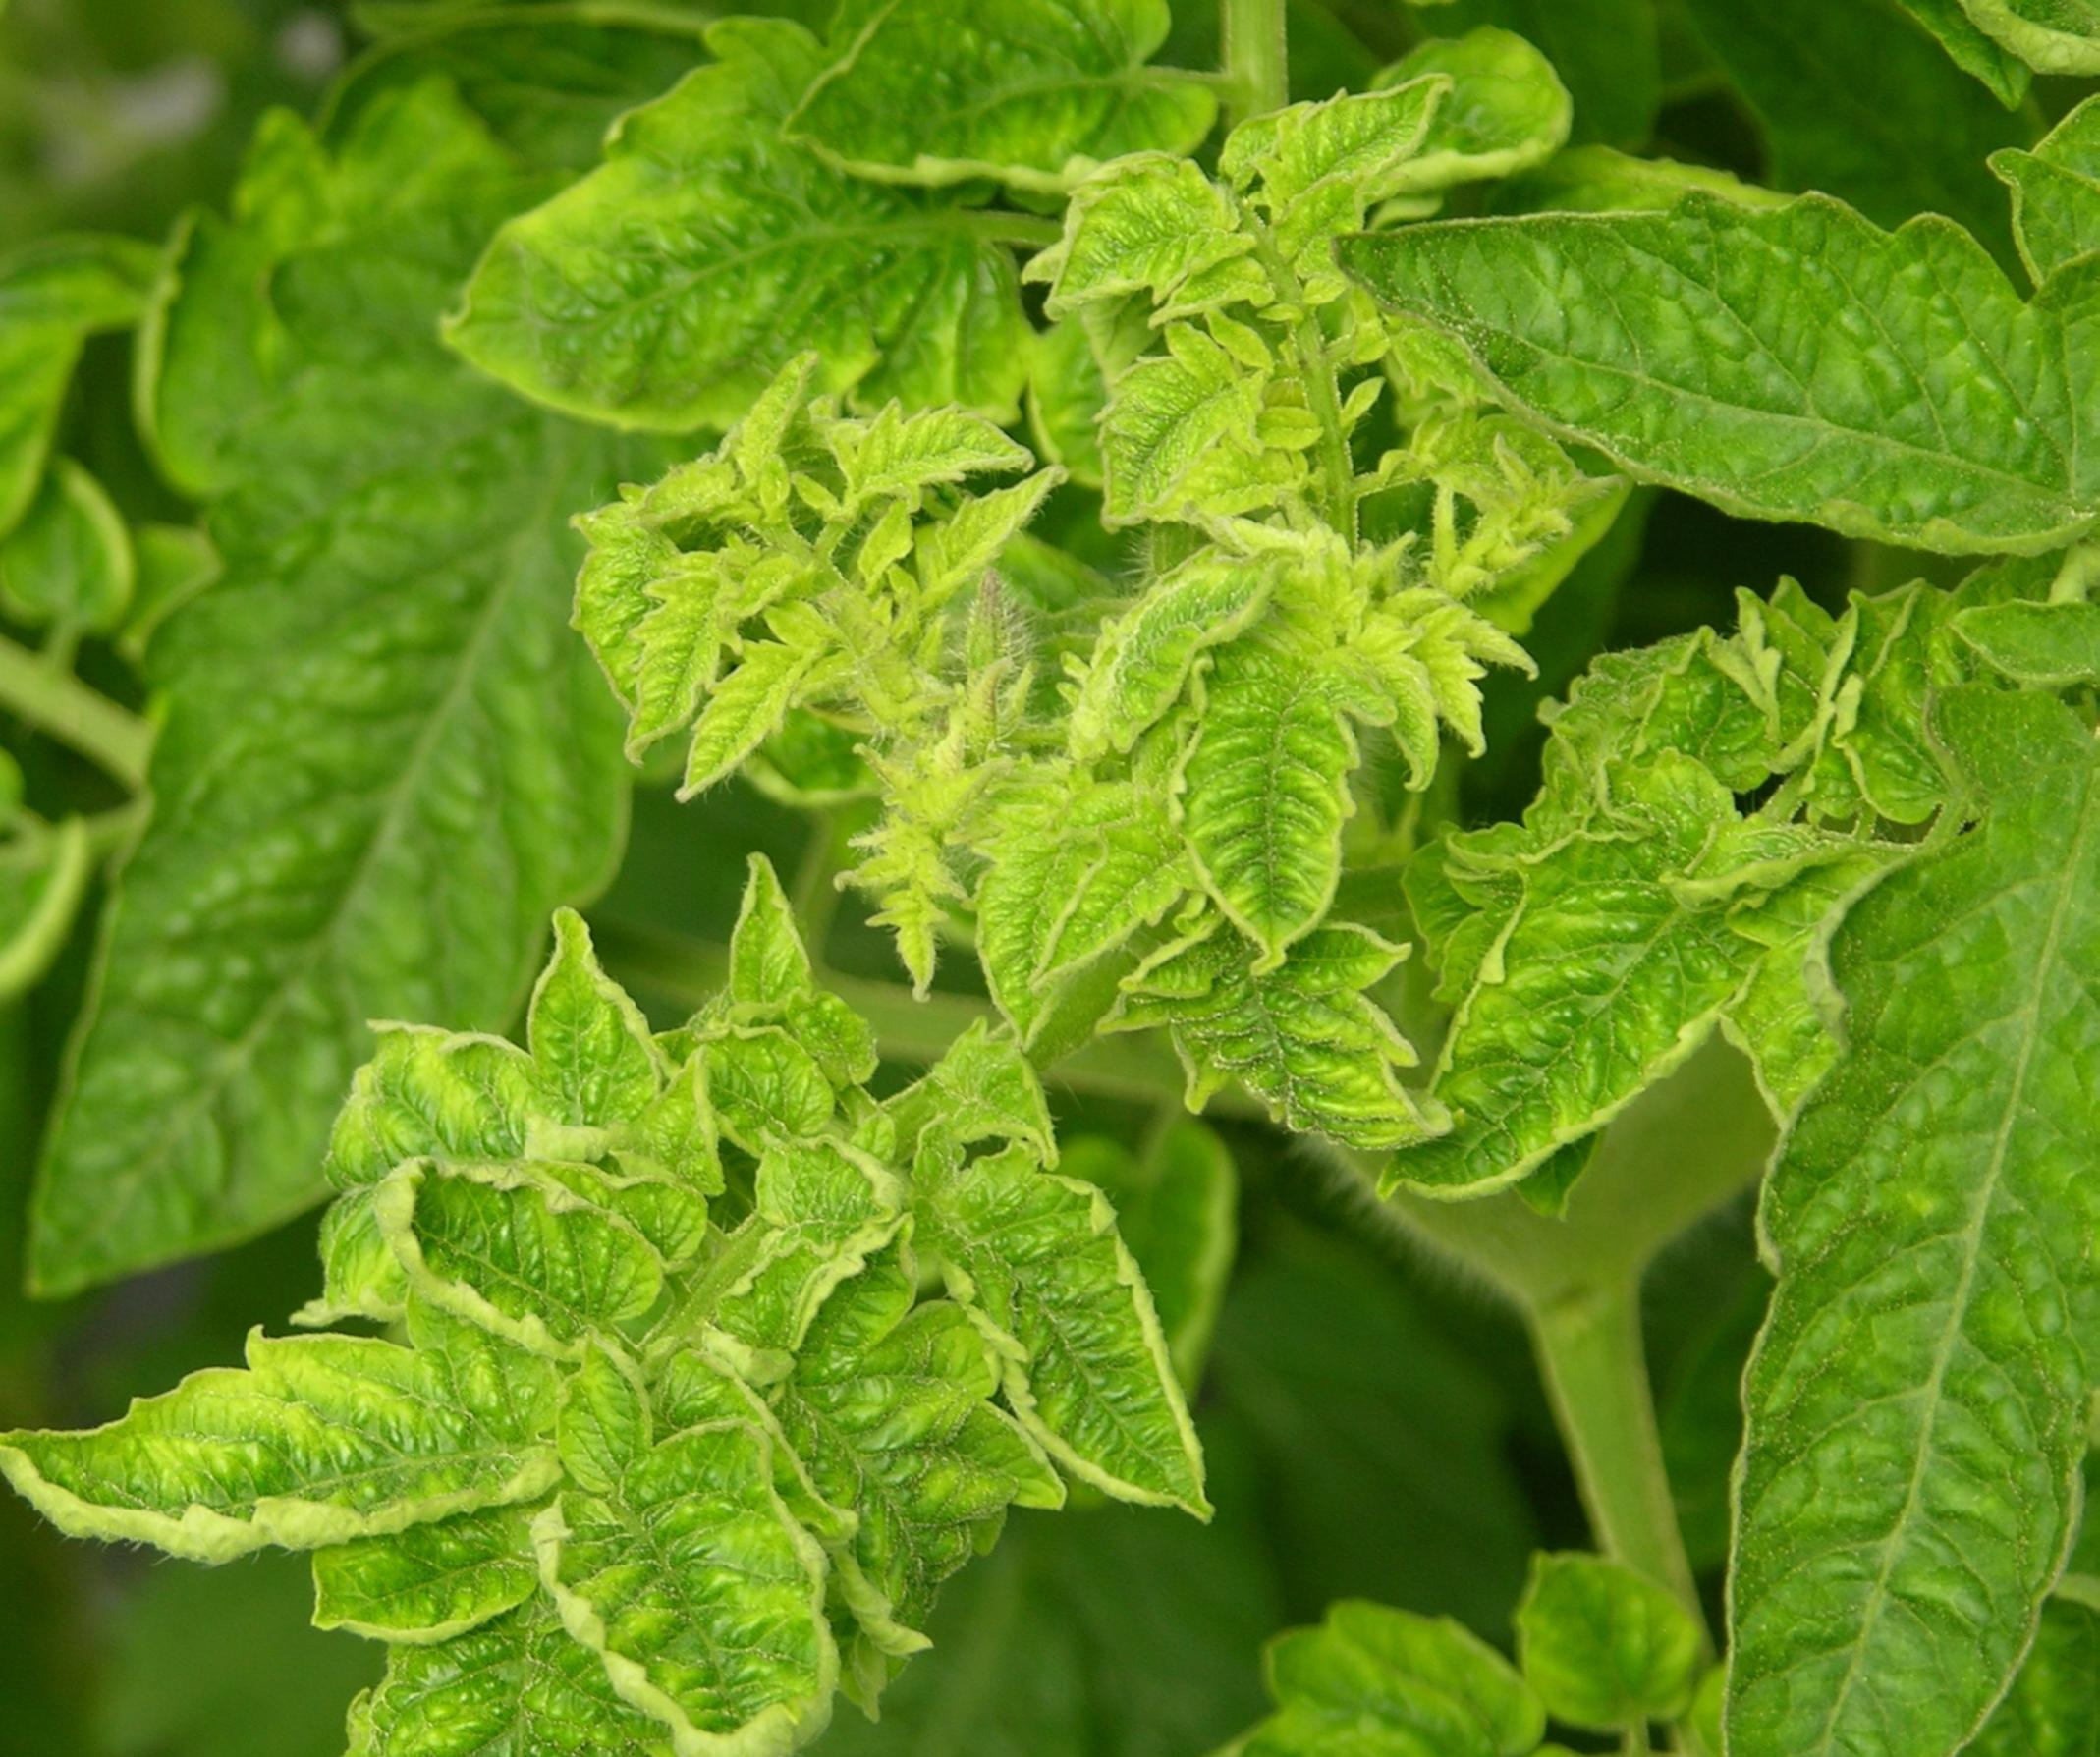Tomato leaf yellow virus: (1619, 637, 2100, 1757), (1216, 127, 2100, 555), (1347, 762, 1797, 1239), (422, 145, 1122, 450), (0, 1289, 577, 1581), (900, 1090, 1235, 1560), (516, 1392, 891, 1757), (314, 1131, 750, 1368), (1144, 628, 1399, 956), (234, 1556, 633, 1757), (907, 729, 1179, 984), (649, 632, 853, 794), (605, 551, 745, 715)
